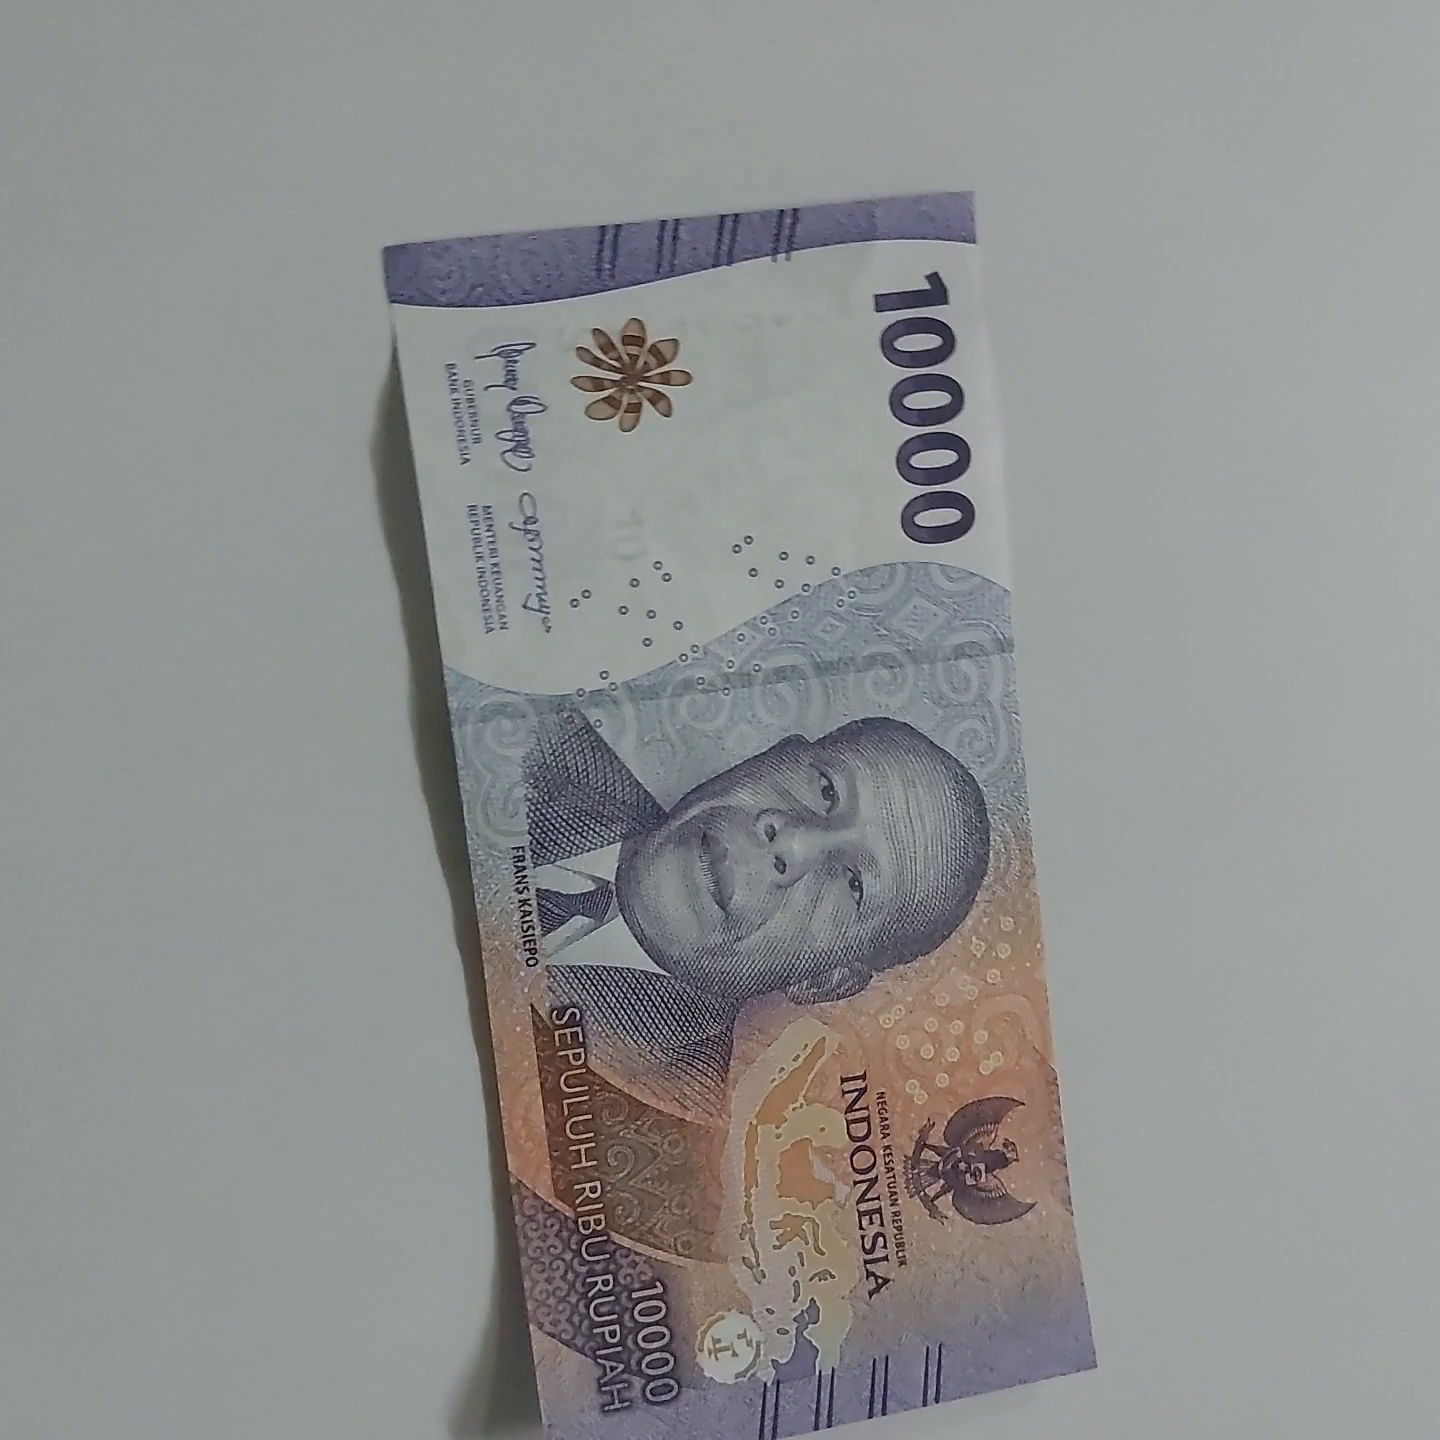10k: (345, 183, 1125, 1440)
